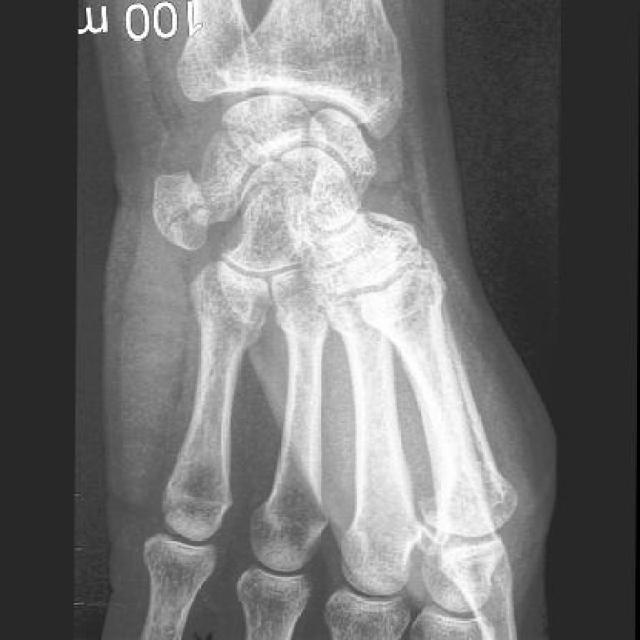Fracture: (162, 200, 218, 242)
